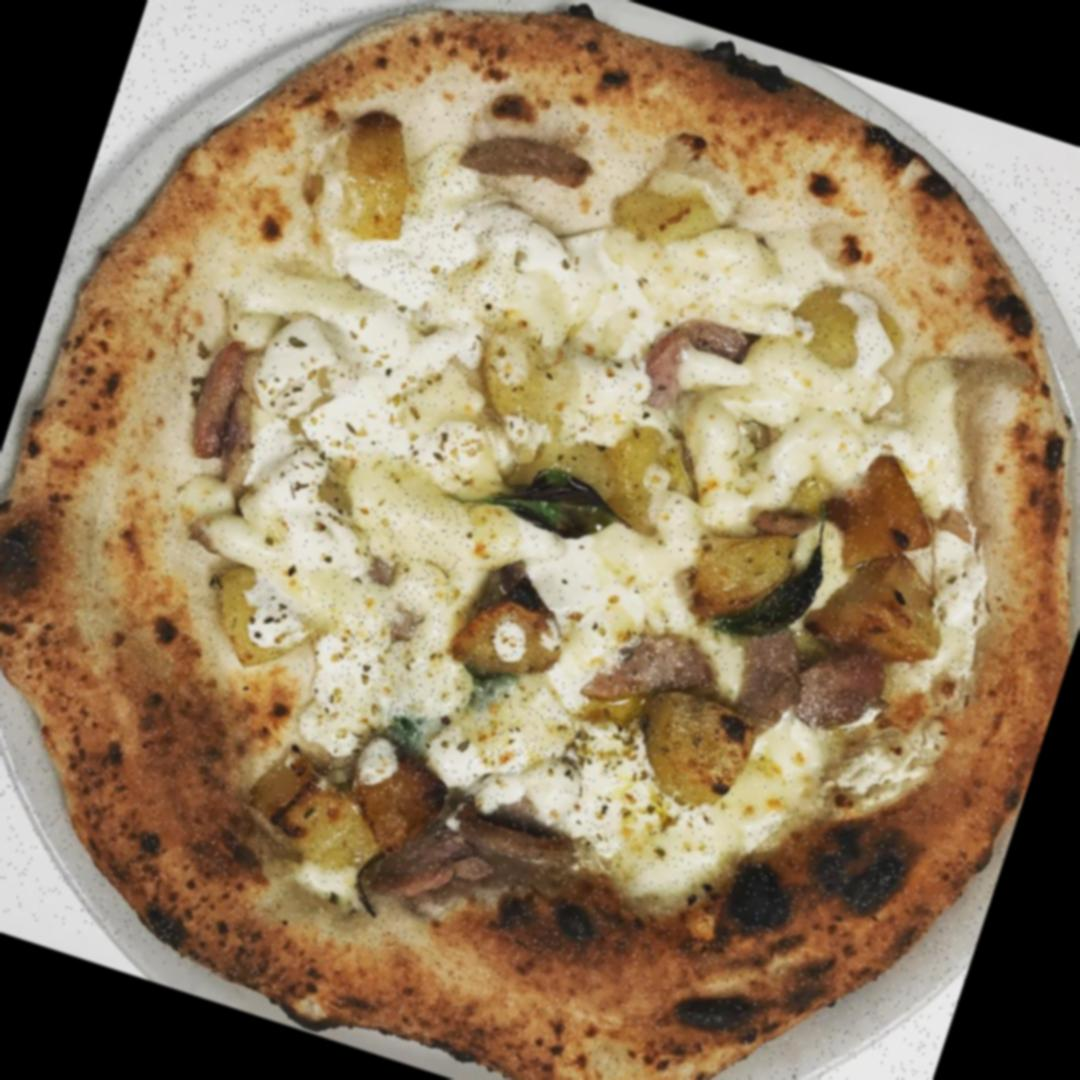Basil: (465, 450, 632, 556), (722, 531, 832, 661)
Cheese: (324, 485, 483, 735), (380, 158, 546, 322), (510, 217, 686, 361), (412, 670, 610, 792), (296, 262, 483, 385), (218, 408, 352, 563), (688, 362, 848, 490), (268, 332, 408, 448), (554, 528, 681, 636)
Pizza: (0, 0, 1080, 1080)
